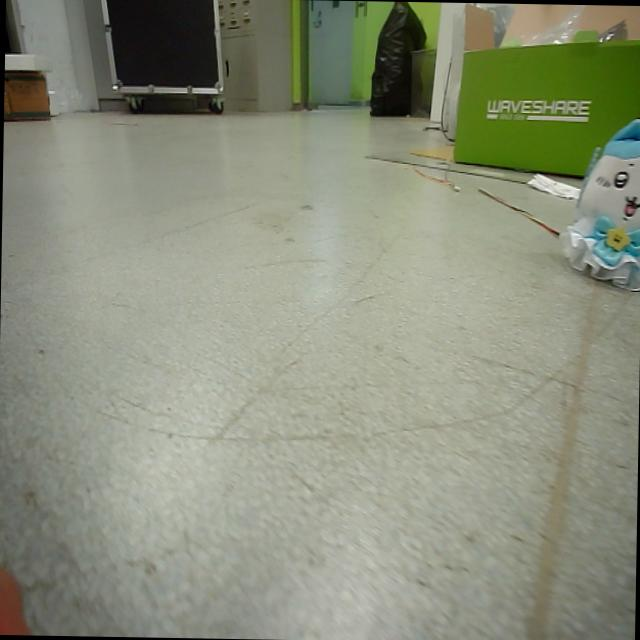xiaoba: (554, 112, 640, 292)
